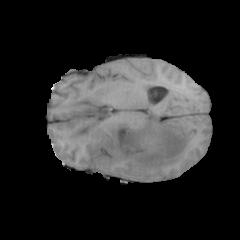glioma: (64, 101, 194, 173)
